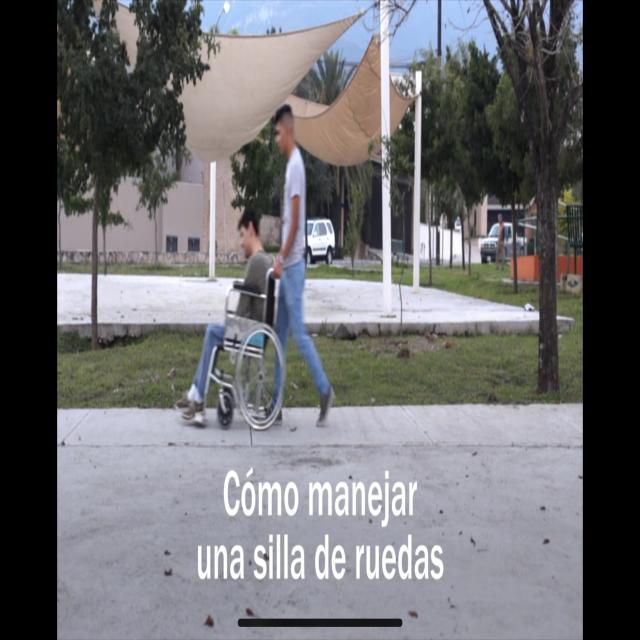wheelchairs: (196, 265, 286, 428)
